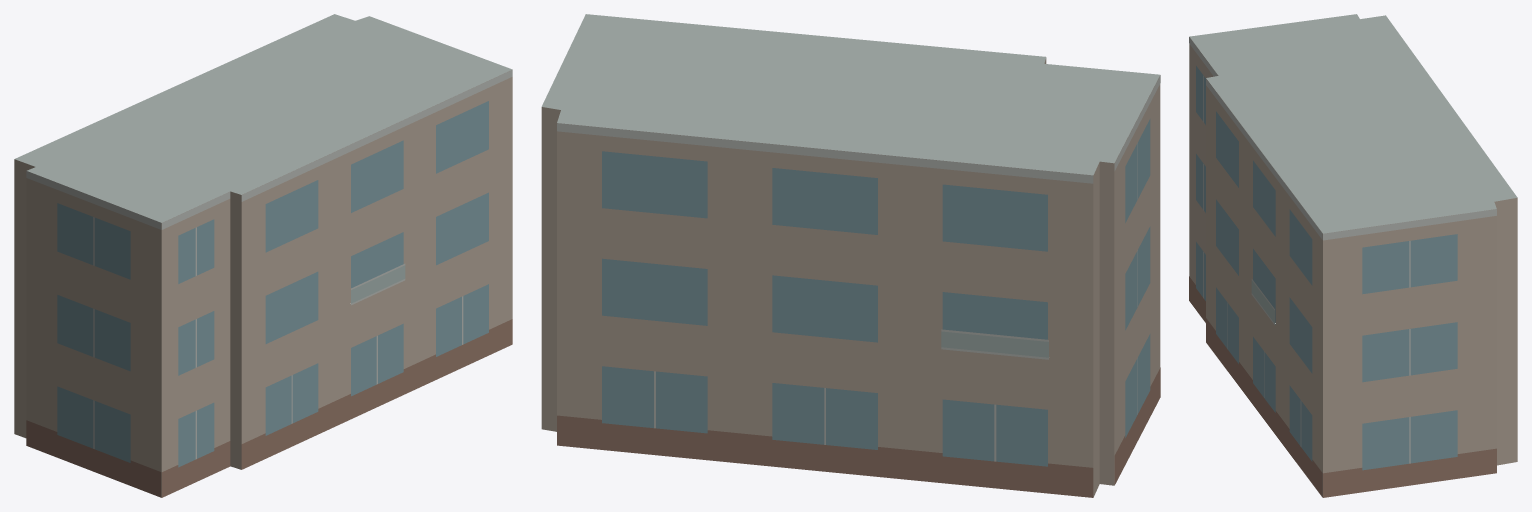
The model's file is survey-upis-32622858.glb.
3 views of the same model, side by side, from view 1: azimuth 30°, elevation 25°; view 2: azimuth 150°, elevation 25°; view 3: azimuth 270°, elevation 25° (orthographic). The views are drawn at different scales.
Visible parts, largest first — view 1: survey-upis-32622858.tmp; view 2: survey-upis-32622858.tmp; view 3: survey-upis-32622858.tmp.
Part boxes in pixels (box(x1,y1,x2,y2)): survey-upis-32622858.tmp: box(14, 14, 512, 497); survey-upis-32622858.tmp: box(541, 14, 1160, 497); survey-upis-32622858.tmp: box(1189, 14, 1517, 497).
Size of the model in its own units: 16.77 by 9.4 by 10.6.
